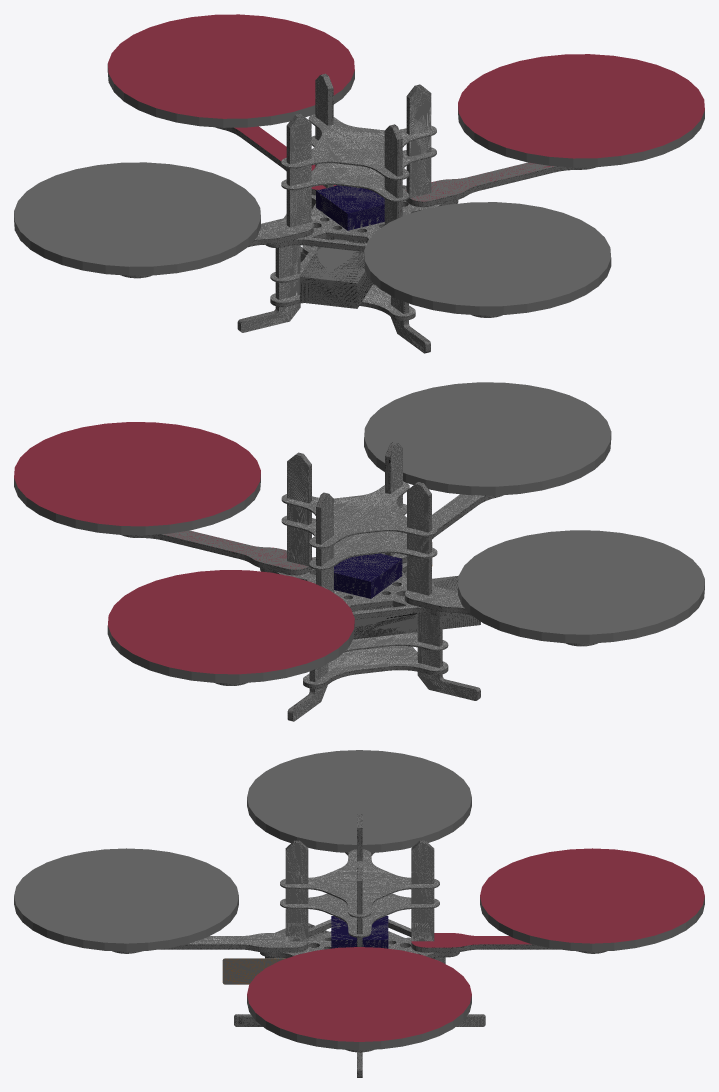
The model's file is pelican_without_frame.dae.
The picture shows the model from 3 angles, top to bottom: view 1: azimuth 30°, elevation 25°; view 2: azimuth 150°, elevation 25°; view 3: azimuth 270°, elevation 25°; orthographic projection. The views are drawn at different scales.
Visible parts, largest first — view 1: instance_0_208, instance_0_202, instance_0_205, instance_0_199, instance_0_106, instance_0_029, instance_0_207, instance_0_204, instance_0_201, instance_0, instance_0_198, instance_0_036 (+12 smaller); view 2: instance_0_208, instance_0_202, instance_0_199, instance_0_205, instance_0_029, instance_0_207, instance_0_198, instance_0, instance_0_201, instance_0_204, instance_0_106, instance_0_012 (+13 smaller); view 3: instance_0_202, instance_0_199, instance_0_205, instance_0_208, instance_0_029, instance_0_115, instance_0_108, instance_0_201, instance_0_198, instance_0_204, instance_0_036, instance_0_207 (+7 smaller).
Boxes of the visible parts, left/top/right/bottom form: instance_0_208: left=14, top=162, right=260, bottom=266; instance_0_202: left=458, top=54, right=704, bottom=158; instance_0_205: left=364, top=202, right=610, bottom=306; instance_0_199: left=108, top=14, right=354, bottom=118; instance_0_106: left=299, top=185, right=406, bottom=308; instance_0_029: left=281, top=114, right=436, bottom=178; instance_0_207: left=14, top=213, right=260, bottom=275; instance_0_204: left=364, top=252, right=611, bottom=315; instance_0_201: left=458, top=106, right=704, bottom=167; instance_0: left=316, top=185, right=384, bottom=230; instance_0_198: left=107, top=64, right=354, bottom=127; instance_0_036: left=281, top=135, right=436, bottom=200; instance_0_208: left=458, top=530, right=704, bottom=634; instance_0_202: left=14, top=422, right=260, bottom=526; instance_0_199: left=108, top=570, right=354, bottom=674; instance_0_205: left=364, top=382, right=610, bottom=486; instance_0_029: left=281, top=482, right=437, bottom=546; instance_0_207: left=458, top=581, right=704, bottom=643; instance_0_198: left=107, top=620, right=354, bottom=683; instance_0: left=334, top=553, right=402, bottom=598; instance_0_201: left=14, top=474, right=260, bottom=535; instance_0_204: left=364, top=431, right=611, bottom=495; instance_0_106: left=352, top=575, right=480, bottom=639; instance_0_012: left=303, top=646, right=448, bottom=684; instance_0_202: left=247, top=947, right=471, bottom=1041; instance_0_199: left=480, top=848, right=704, bottom=943; instance_0_205: left=14, top=848, right=238, bottom=943; instance_0_208: left=247, top=750, right=471, bottom=844; instance_0_029: left=280, top=849, right=439, bottom=916; instance_0_115: left=411, top=843, right=434, bottom=941; instance_0_108: left=285, top=843, right=308, bottom=941; instance_0_201: left=247, top=995, right=471, bottom=1050; instance_0_198: left=480, top=897, right=704, bottom=951; instance_0_204: left=14, top=897, right=238, bottom=951; instance_0_036: left=280, top=893, right=439, bottom=936; instance_0_207: left=247, top=798, right=471, bottom=852.
Size of the model in its own units: 0.614 by 0.614 by 0.1803.
